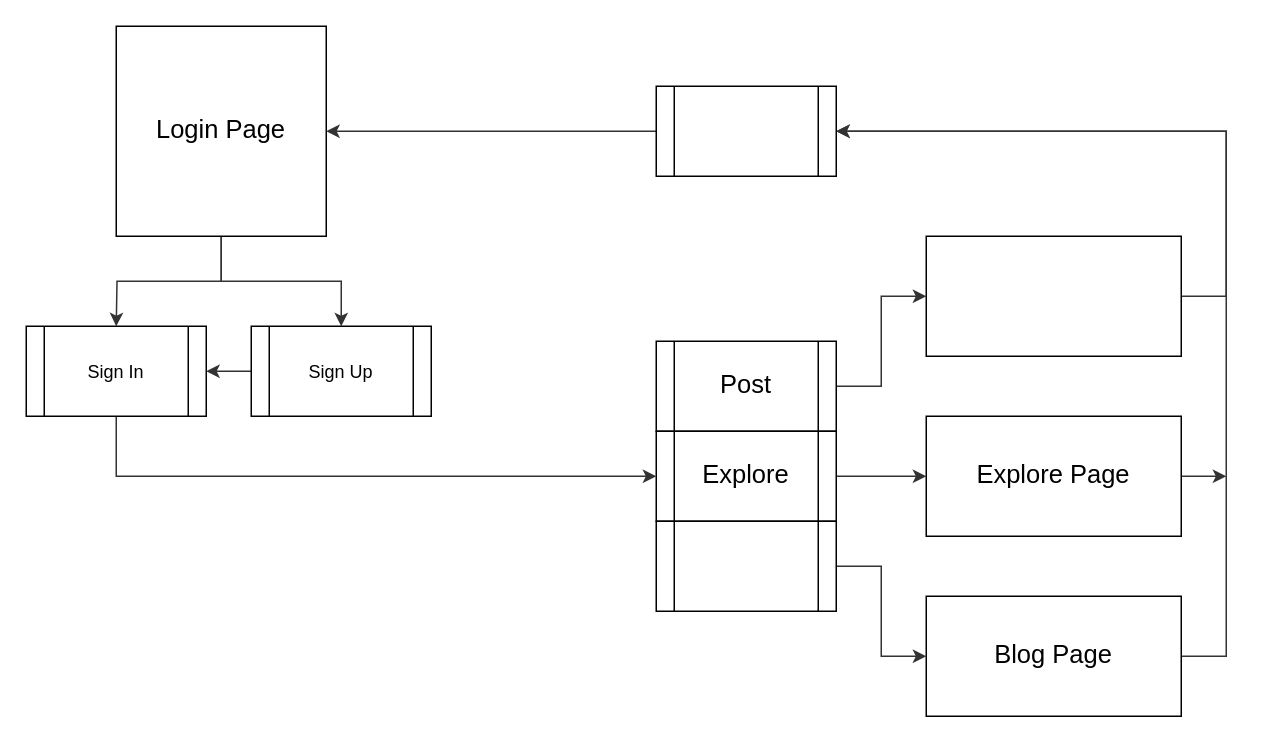
This 1265x743 diagram has some shape labels left out. The centre of each missing label's shape, as x and y in pixels:
"MyBlog" goes at point (745, 565).
"Post Page" goes at point (1053, 295).
"Sign Out" goes at point (745, 130).
